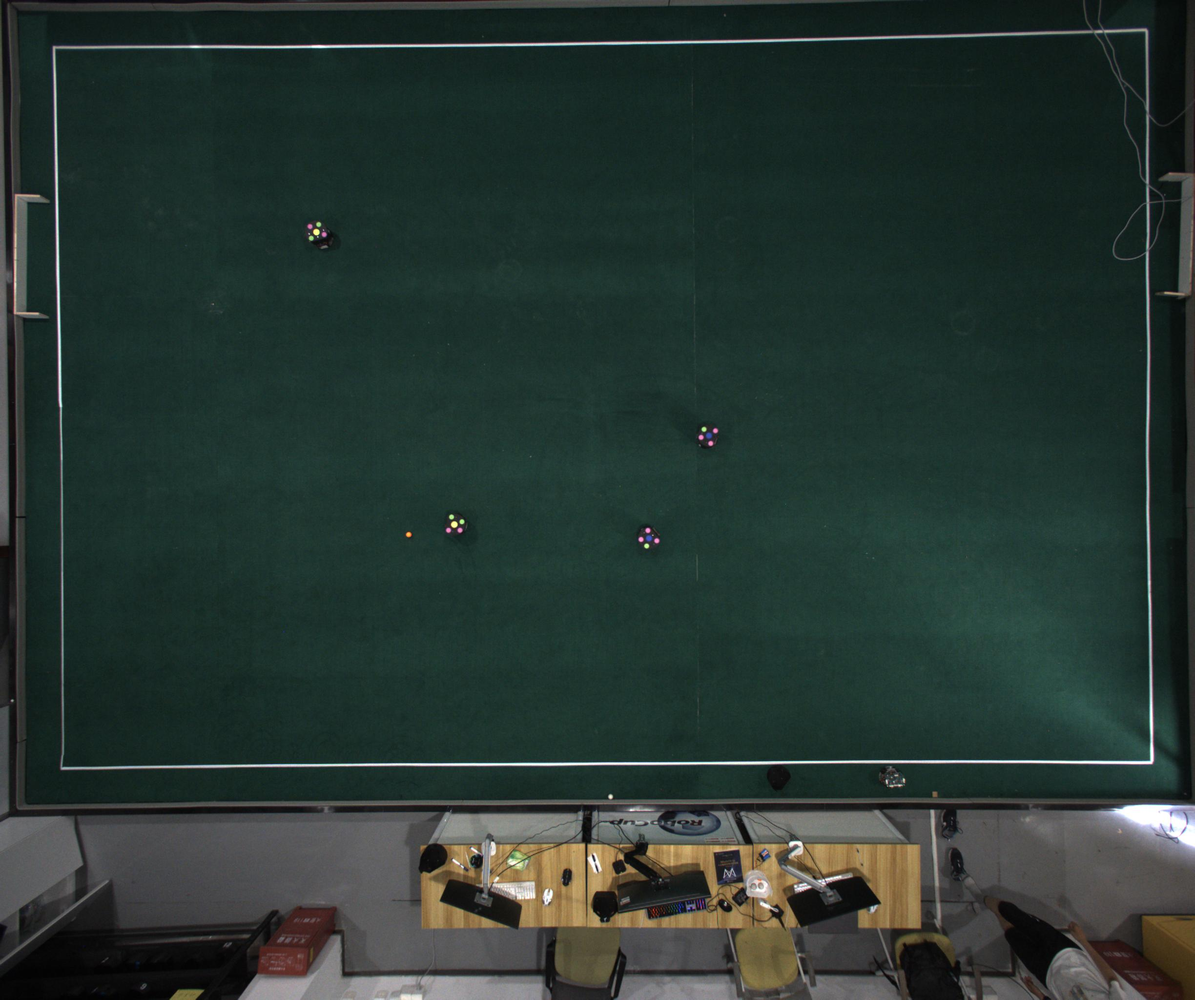ball: (405, 531, 412, 538)
blue_bot: (637, 527, 661, 550), (698, 424, 720, 447)
yellow_bot: (305, 220, 329, 242), (444, 512, 466, 535)
